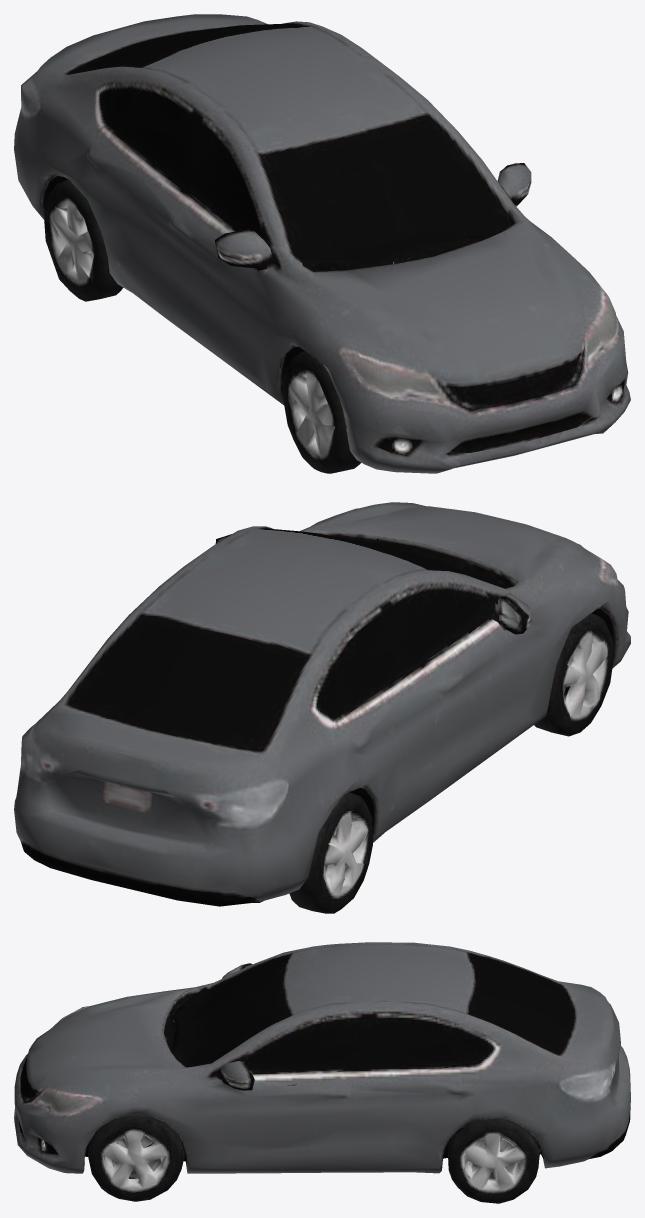
Rendered from sedan_silver.glb.
3 views of the same model, one above another, from view 1: azimuth 30°, elevation 25°; view 2: azimuth 150°, elevation 25°; view 3: azimuth 270°, elevation 25° (orthographic). The views are drawn at different scales.
Parts seen in each view (by area): view 1: sedan_silver; view 2: sedan_silver; view 3: sedan_silver.
Boxes of the visible parts, left/top/right/bottom form: sedan_silver: left=14, top=14, right=630, bottom=473; sedan_silver: left=14, top=502, right=630, bottom=913; sedan_silver: left=14, top=942, right=630, bottom=1203.
Bounding box in the file's own units: 2.1 × 1.62 × 4.82.
Materials: 1 (1 with a texture image).
